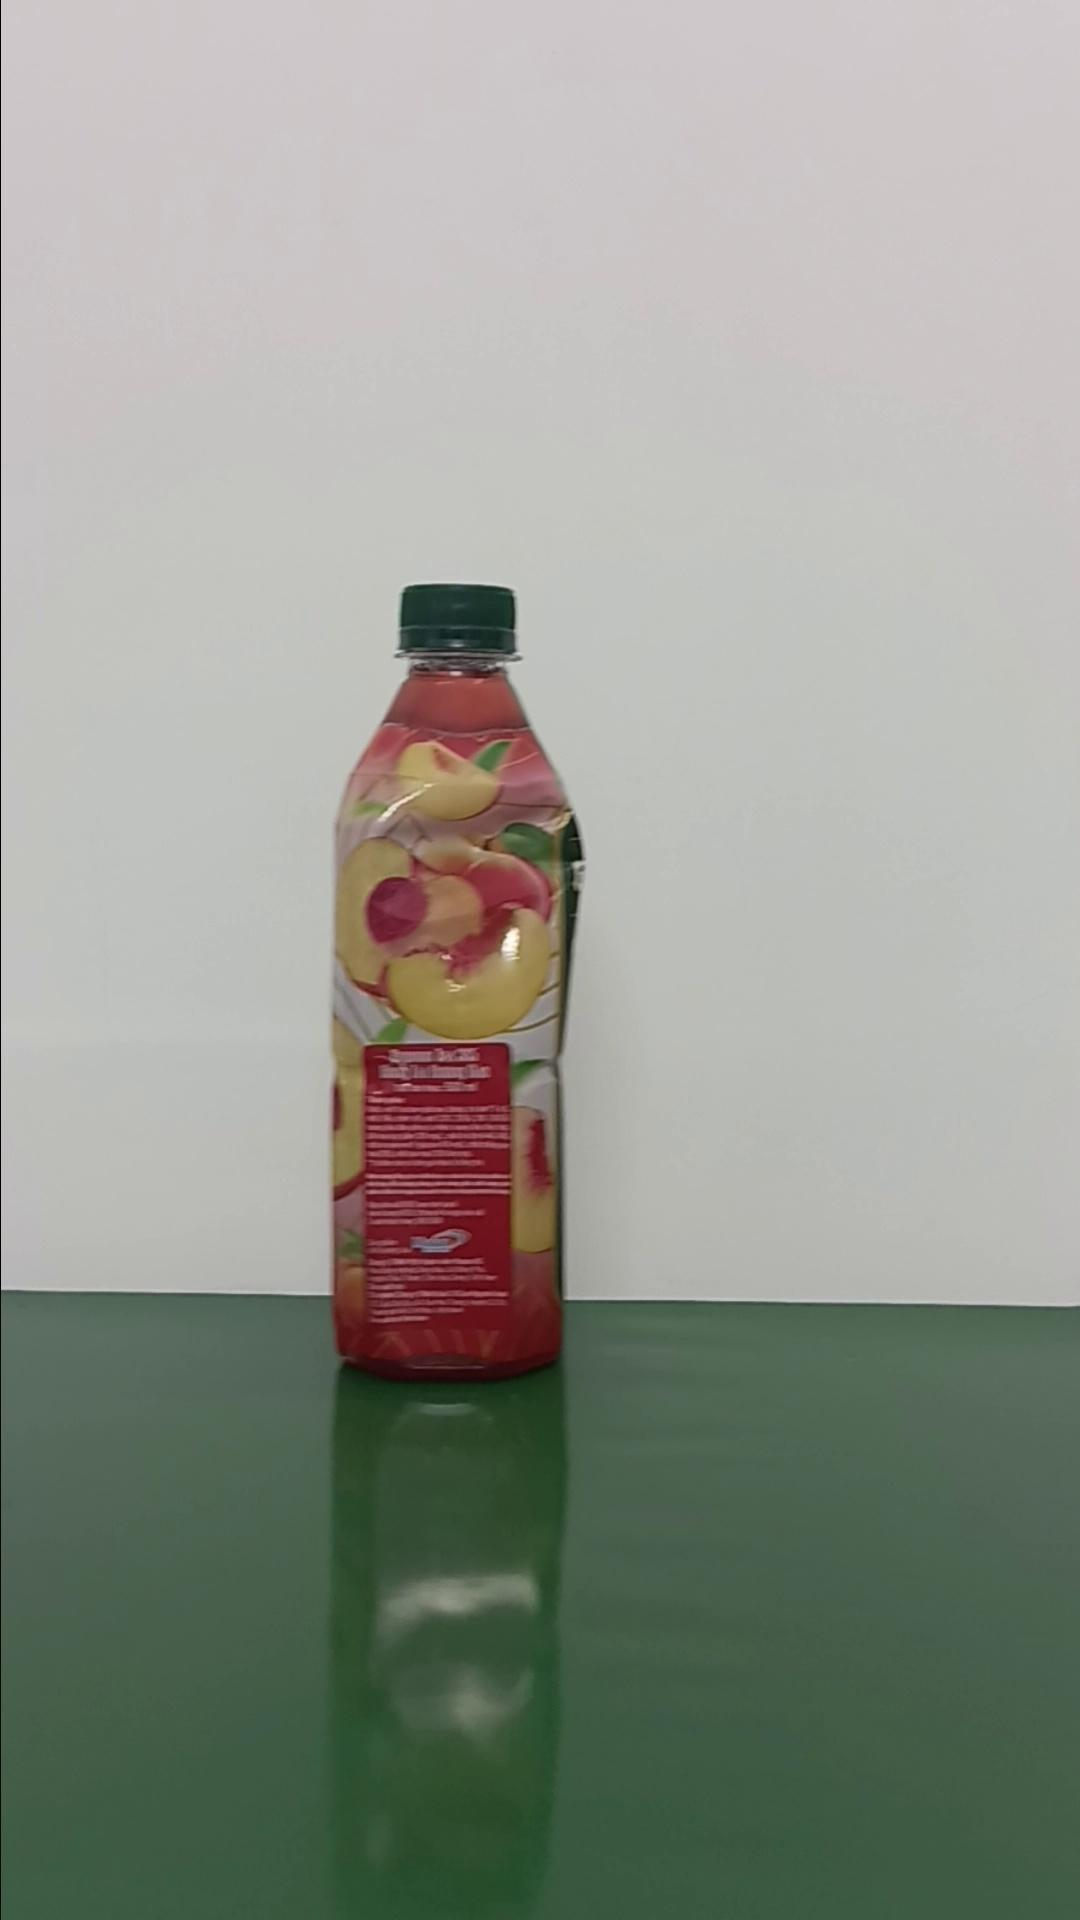loi meo sp: (326, 580, 584, 1381)
